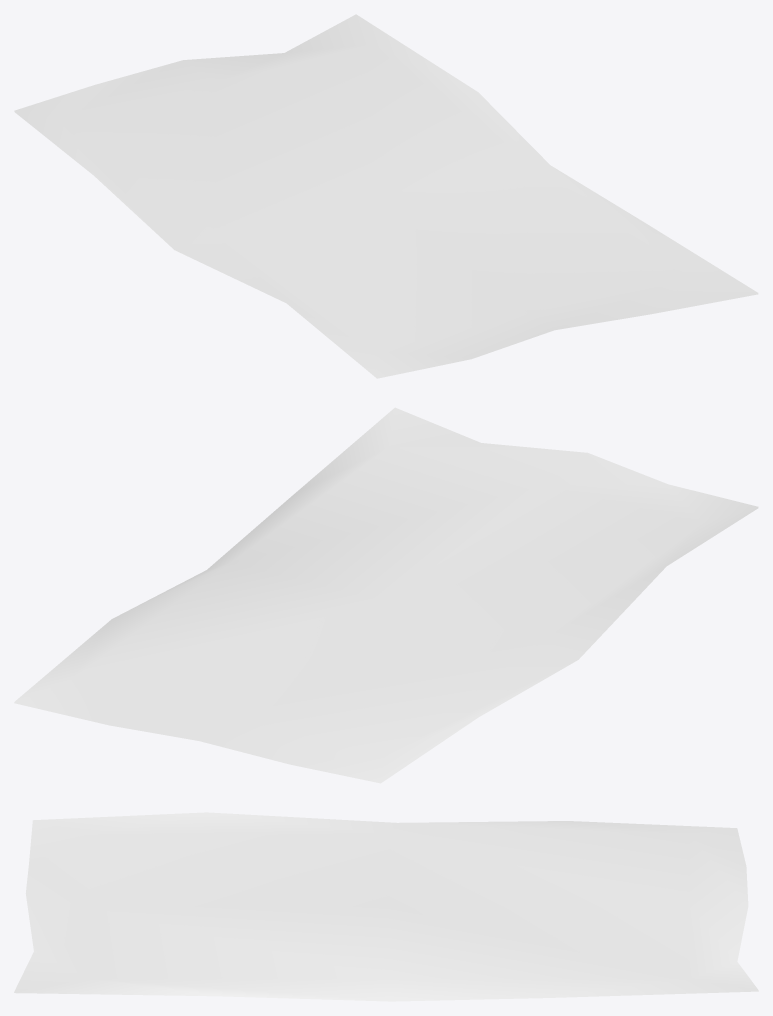
The model's file is Note.fbx.
3 views of the same model, one above another, from view 1: azimuth 30°, elevation 25°; view 2: azimuth 150°, elevation 25°; view 3: azimuth 270°, elevation 25° (orthographic). The views are drawn at different scales.
Visible parts, largest first — view 1: Plane; view 2: Plane; view 3: Plane.
Part boxes in pixels (x1,y1,x2,y2): Plane: [14, 14, 758, 378]; Plane: [14, 407, 758, 783]; Plane: [14, 812, 758, 1001].
Bounding box in the file's own units: 207 × 11.9 × 365.
Materials: 1 (1 with a texture image).
